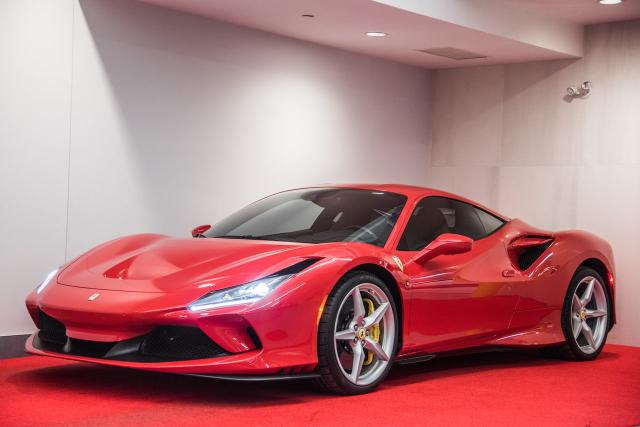ferrari: (25, 184, 618, 396)
